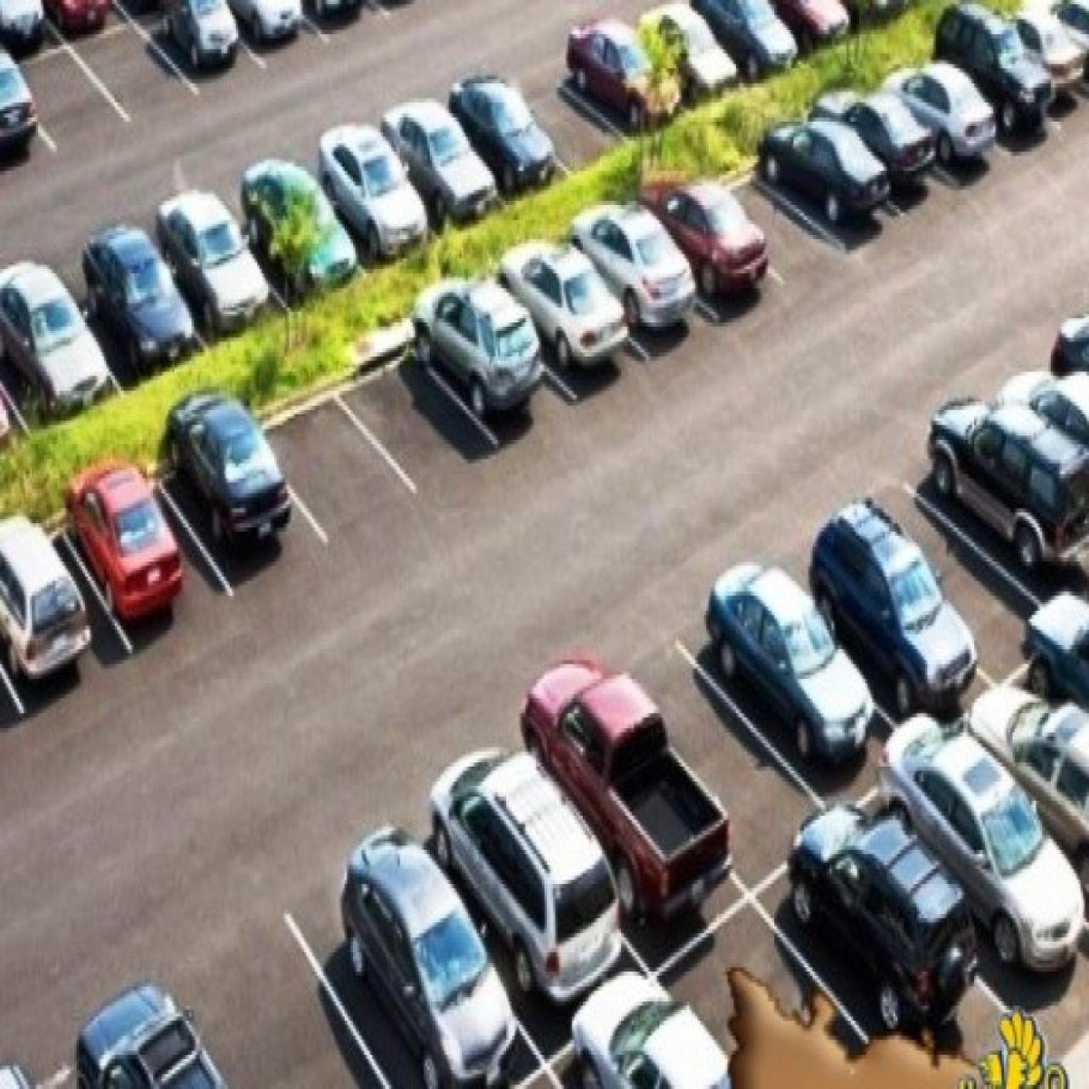cars: (424, 740, 630, 1026), (519, 662, 696, 956), (886, 708, 1068, 975), (317, 837, 501, 1089), (793, 825, 987, 1037), (680, 898, 892, 1089), (710, 536, 864, 796), (920, 381, 1084, 601), (795, 504, 950, 722), (166, 393, 299, 585), (419, 270, 562, 447), (76, 470, 204, 653), (573, 195, 708, 364), (500, 253, 646, 407), (0, 524, 97, 733), (768, 103, 895, 252), (657, 165, 768, 330), (326, 97, 427, 272), (936, 20, 1057, 165), (378, 81, 485, 235), (93, 209, 190, 378), (238, 145, 336, 310), (0, 269, 89, 450), (890, 51, 999, 194), (157, 184, 261, 329), (832, 80, 949, 206), (569, 9, 676, 145), (457, 61, 546, 215), (642, 0, 740, 102)
empty: (625, 624, 797, 876), (850, 453, 1027, 686), (265, 383, 391, 541), (356, 347, 480, 499), (719, 143, 845, 284), (514, 24, 620, 177), (90, 20, 190, 138), (27, 41, 103, 169)
